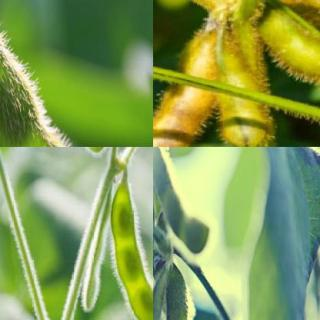soya: (0, 0, 97, 146), (153, 34, 217, 146), (216, 34, 273, 146), (153, 147, 209, 251), (111, 185, 152, 319), (260, 12, 319, 101), (153, 271, 189, 319)
